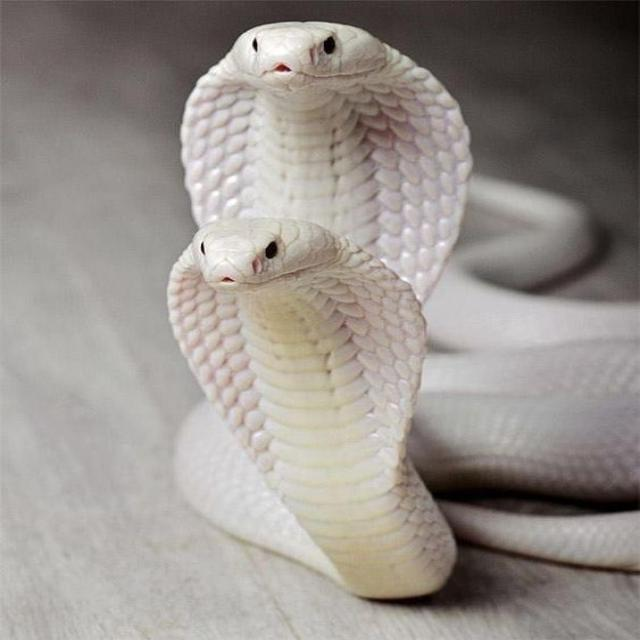Snake: (133, 0, 640, 607)
